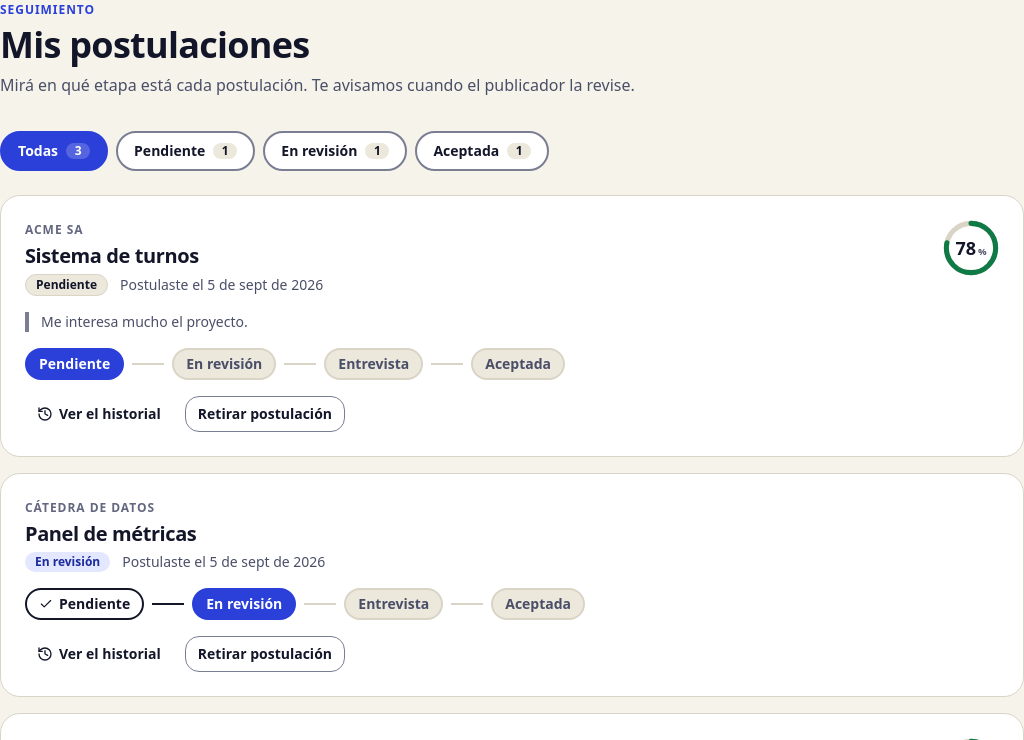
Test case: PostulacionesPage › retirar una postulación › si el publicador ya la resolvió (409) muestra el motivo, deja el diálogo abierto y refresca el listado
This screenshot has width=1024, height=740.
Expected: the link "Sistema de turnos" is shown, left=25, top=242, right=199, bottom=269
Click the button "Retirar postulación" below "Sistema de turnos".
click(265, 414)  # box left=185, top=396, right=345, bottom=432
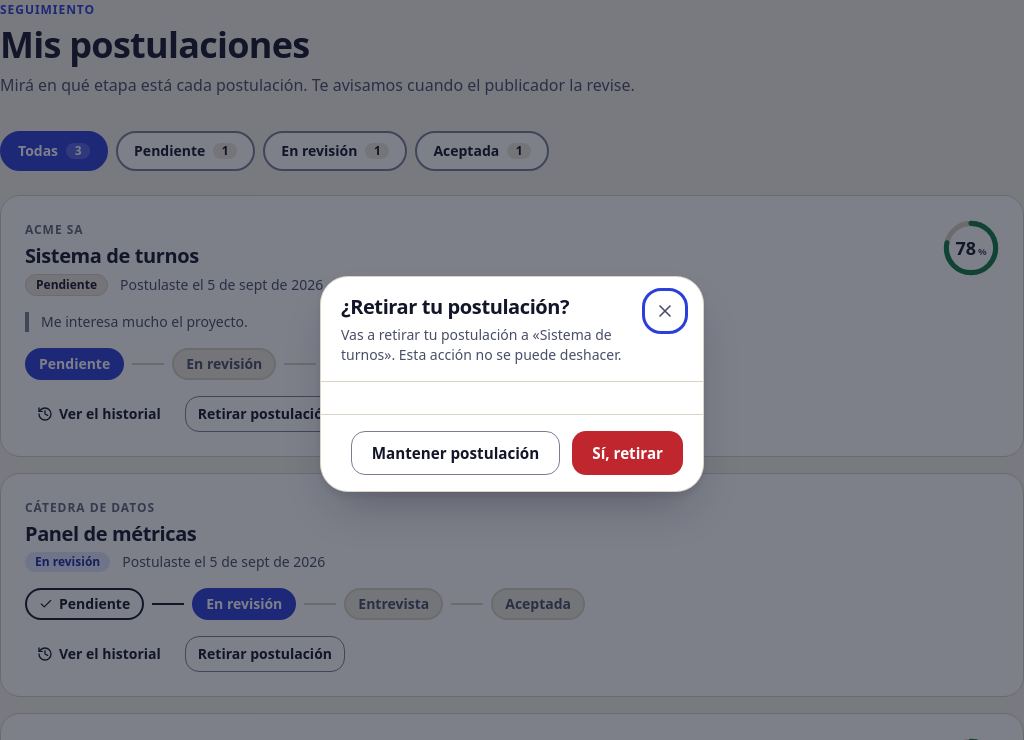
Click the button "Sí, retirar".
click(628, 453)  # box left=572, top=431, right=683, bottom=475
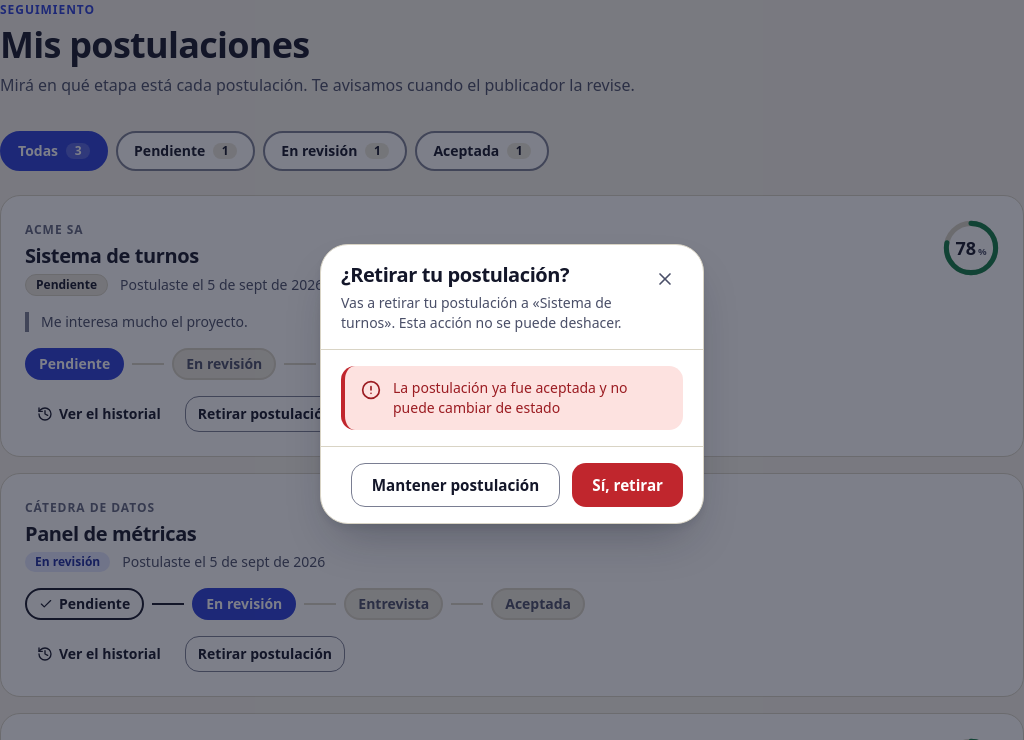
Now the text "La postulación ya fue aceptada y no puede cambiar de estado" is shown, box left=393, top=378, right=667, bottom=418
